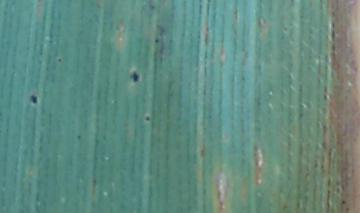tarspot: (128, 68, 141, 84), (27, 93, 39, 105), (148, 3, 156, 11), (282, 24, 289, 33), (75, 133, 82, 140), (144, 114, 150, 122), (153, 37, 159, 44), (57, 57, 63, 63), (340, 199, 346, 205)
